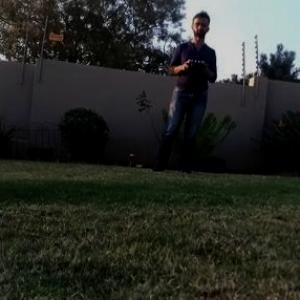follow: (145, 3, 219, 177)
